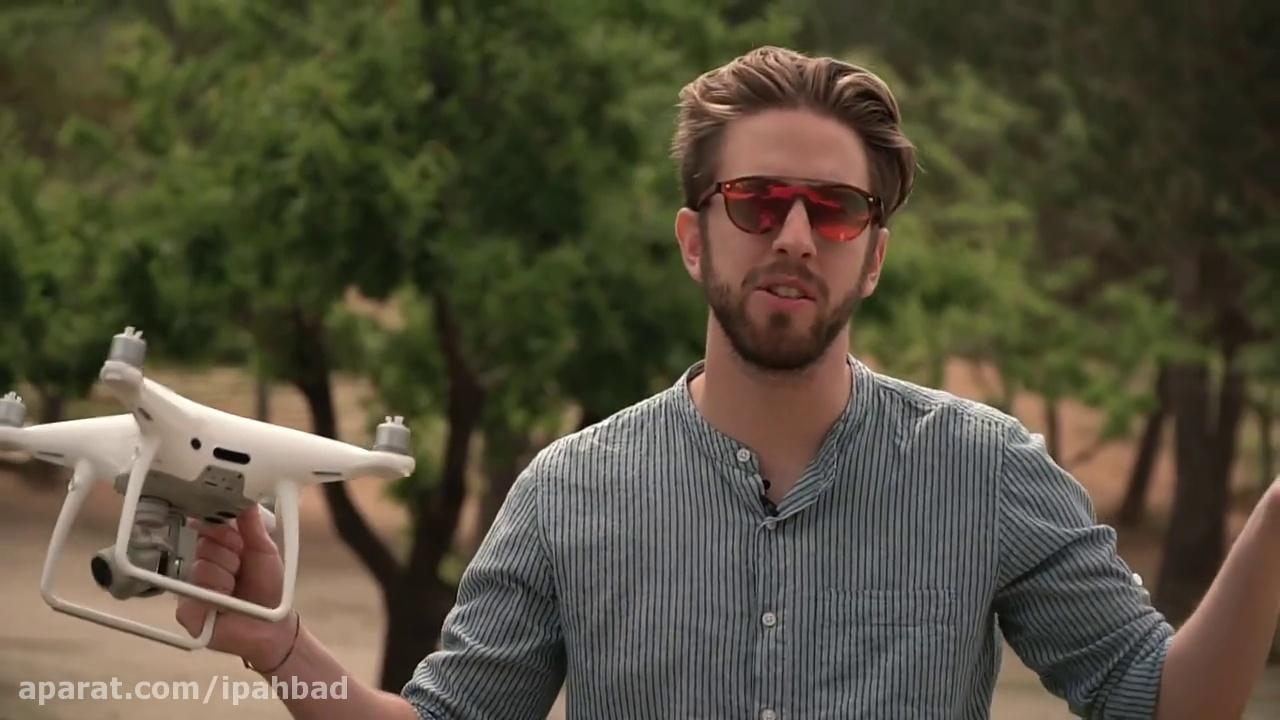drone: (0, 321, 419, 650)
